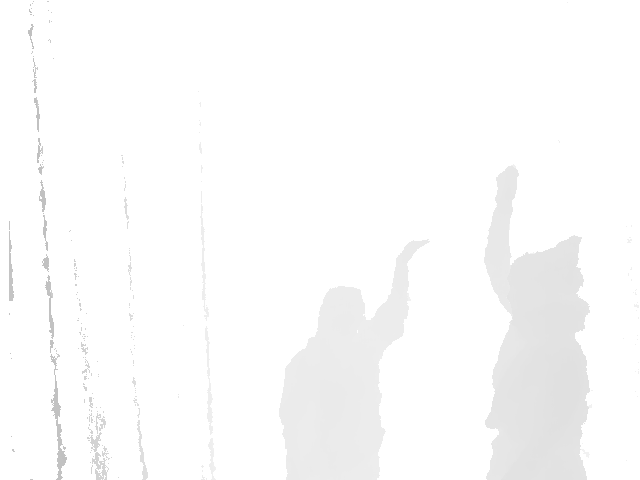hand: (394, 239, 432, 268), (495, 165, 519, 205)
head: (506, 237, 583, 327), (316, 285, 366, 345)
person: (276, 239, 432, 480), (481, 165, 592, 479)
